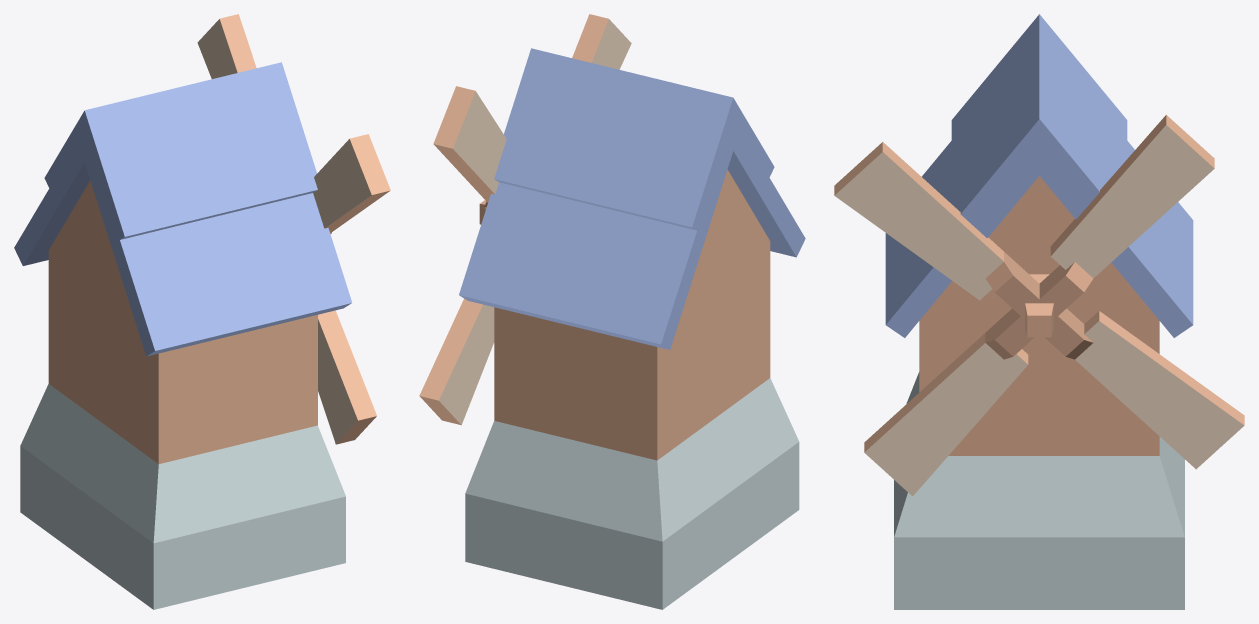
Rendered from unit_mill.glb.
3 renders of one model, left to right at view 1: azimuth 30°, elevation 25°; view 2: azimuth 150°, elevation 25°; view 3: azimuth 270°, elevation 25°, orthographic. The views are drawn at different scales.
Visible parts, largest first — view 1: unit_mill, mill; view 2: unit_mill, mill; view 3: unit_mill, mill.
Boxes of the visible parts, x1,y1,x2,y2 form: unit_mill: [14, 62, 352, 609]; mill: [197, 14, 390, 444]; unit_mill: [459, 48, 805, 609]; mill: [419, 14, 631, 425]; unit_mill: [885, 14, 1193, 609]; mill: [834, 114, 1244, 496].
Bounding box in the file's own units: 0.38 × 0.6811 × 0.5121.
